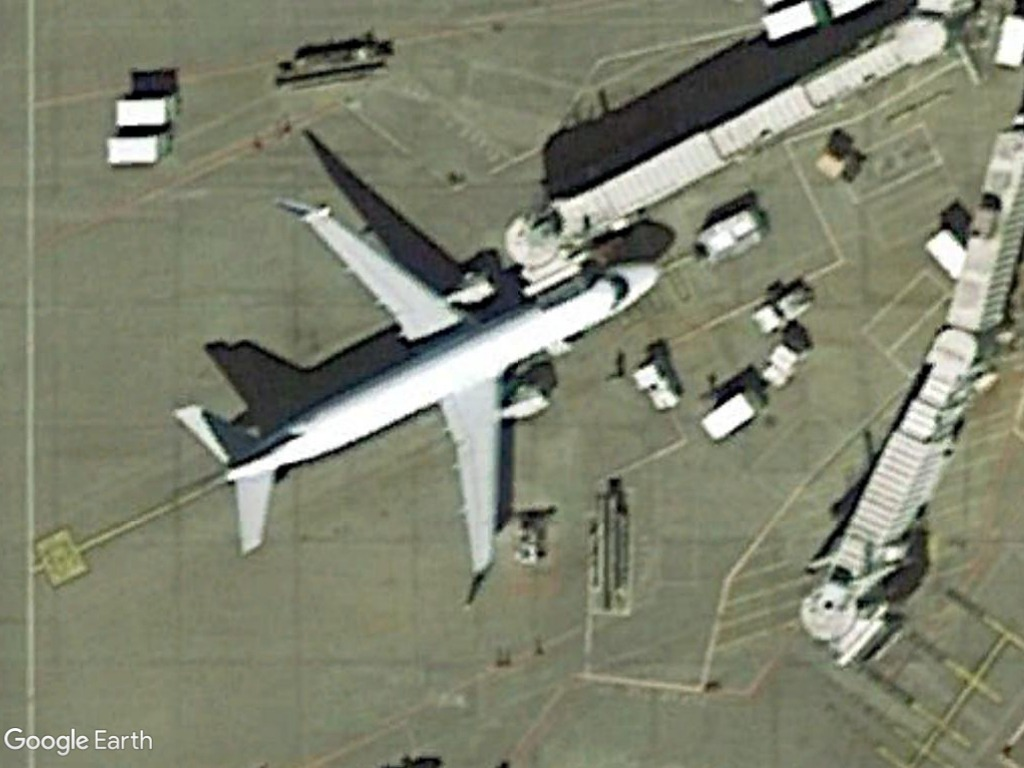airliner: (151, 195, 670, 594)
